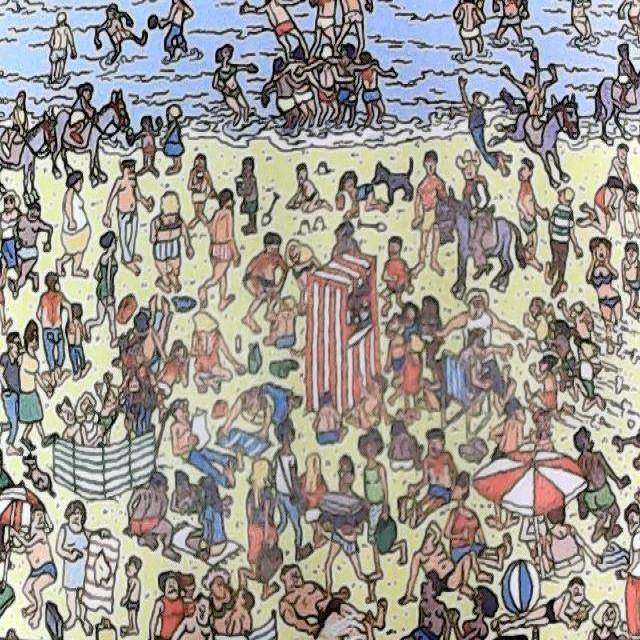waldo: (120, 334, 148, 370)
